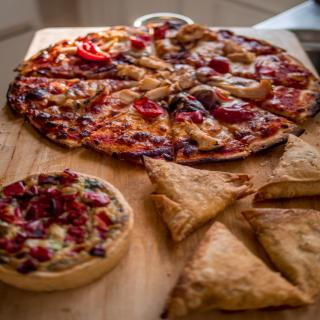Pizza: (8, 21, 304, 168), (0, 173, 137, 295)
